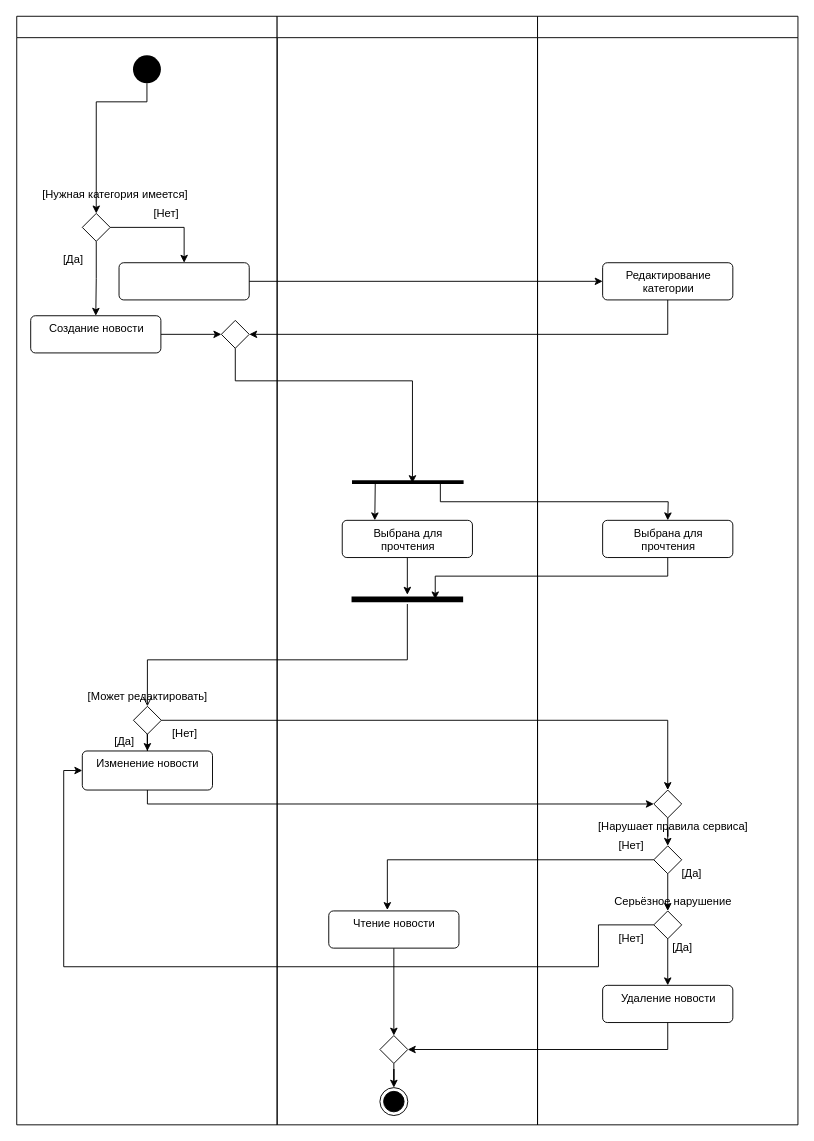
Image size: 814x1141. Some labels were removed from this diagram. The box of each missing label's shape, as (x1, y1, x2, y2) in pixels:
Автор: (16, 15, 277, 1125)
Модератор: (537, 15, 798, 1125)
Создание категории: (118, 262, 249, 300)
Читатель: (276, 15, 538, 1125)
